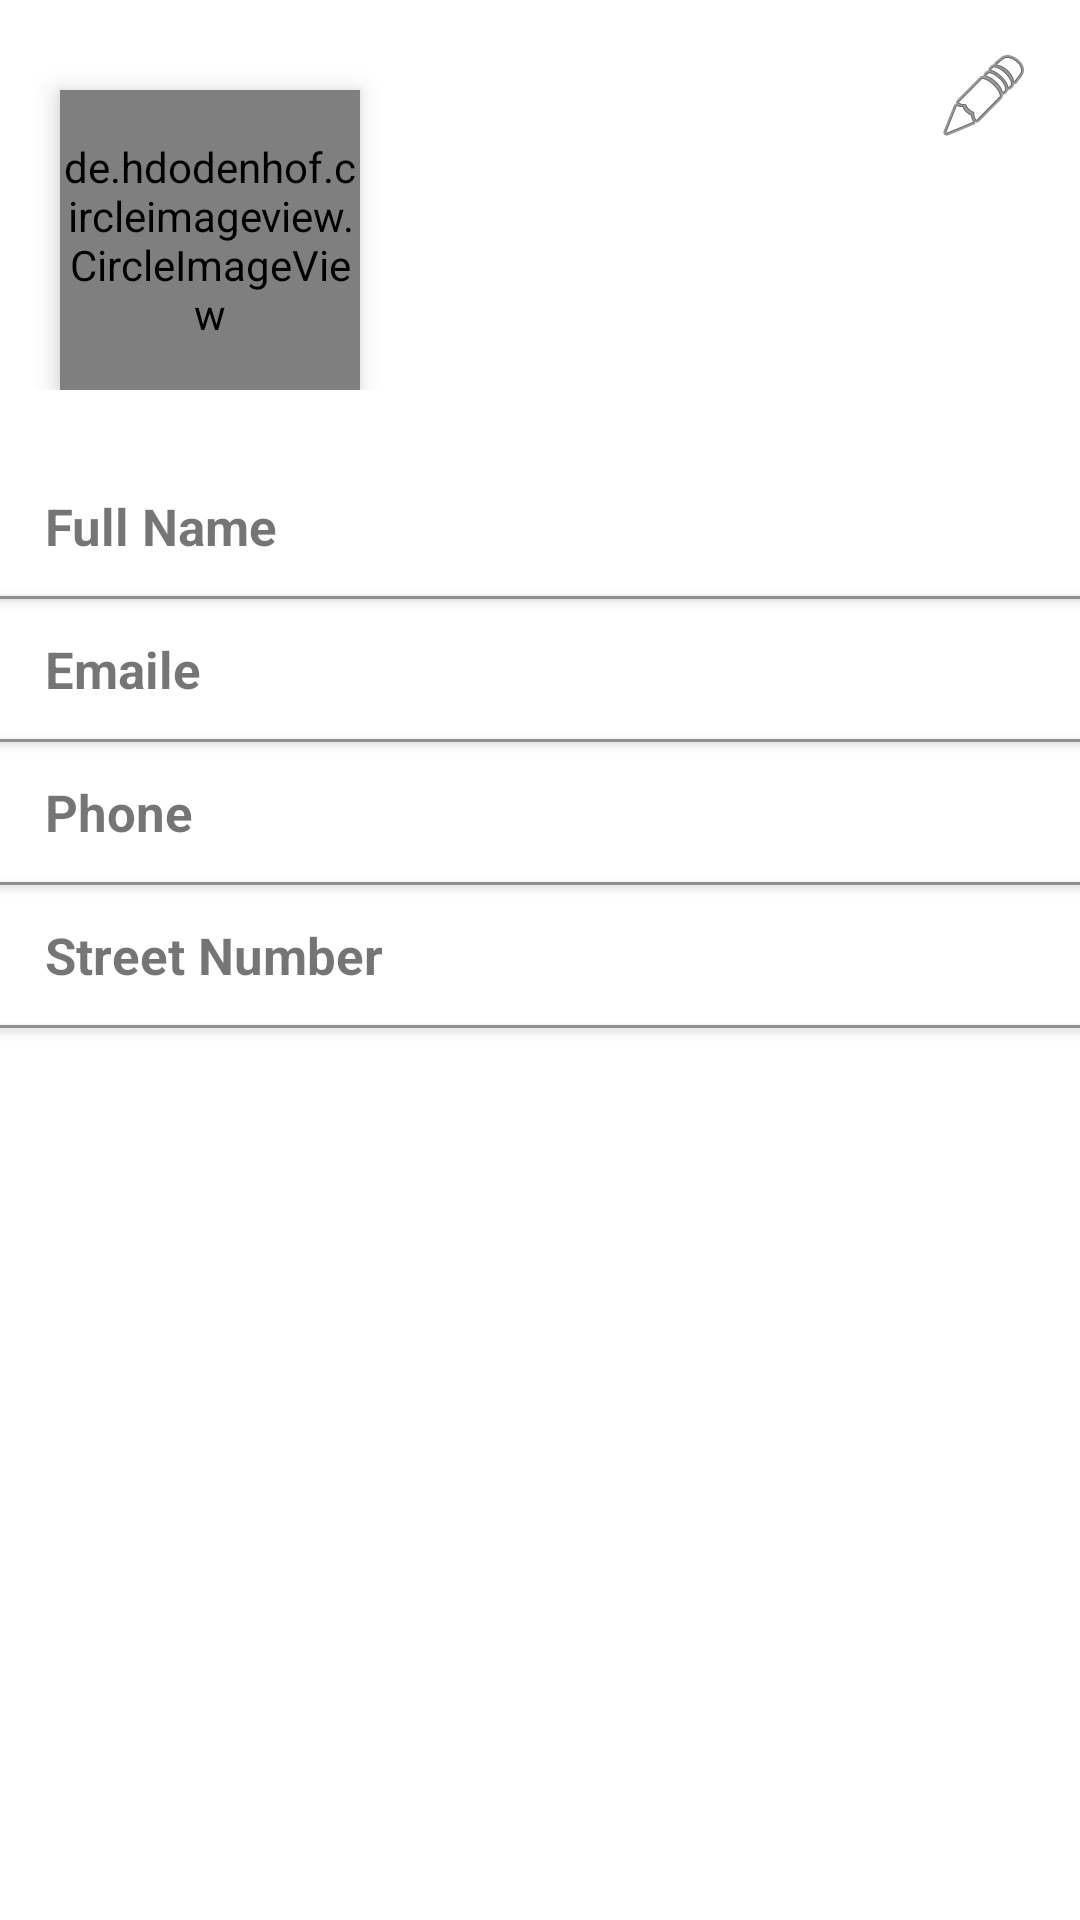

Where icons sit on this 1080w x 1920h app screen, as [x1,y1,x2,y2]:
edit: [943,55,1024,136]
